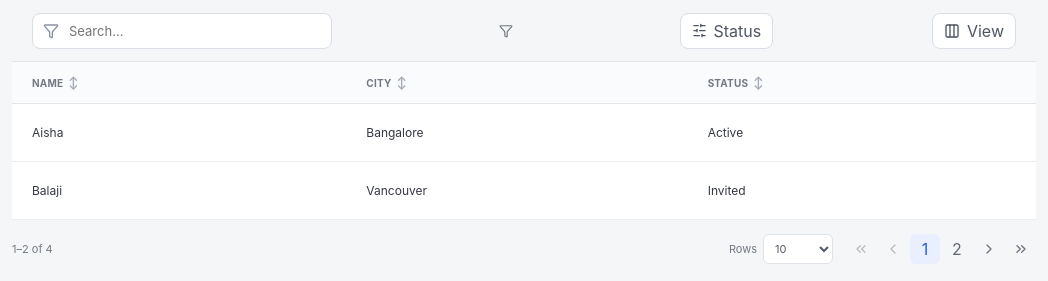
DataTable › renders the first page and navigates pagination
Expected: the text "Aisha" is shown, x1=12 y1=104 x2=353 y2=162
Expected: the text "Balaji" is shown, x1=12 y1=162 x2=353 y2=220
Step 1. Click the button named "Next page" → {"x": 989, "y": 249}, box x1=974 y1=234 x2=1004 y2=264
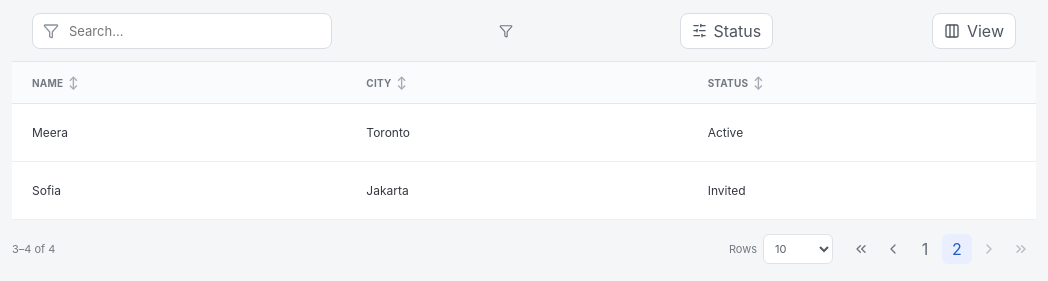
Result: the text "Meera" is shown at x1=12 y1=104 x2=353 y2=162
Result: the text "Sofia" is shown at x1=12 y1=162 x2=353 y2=220
Result: the text "Aisha" is gone
